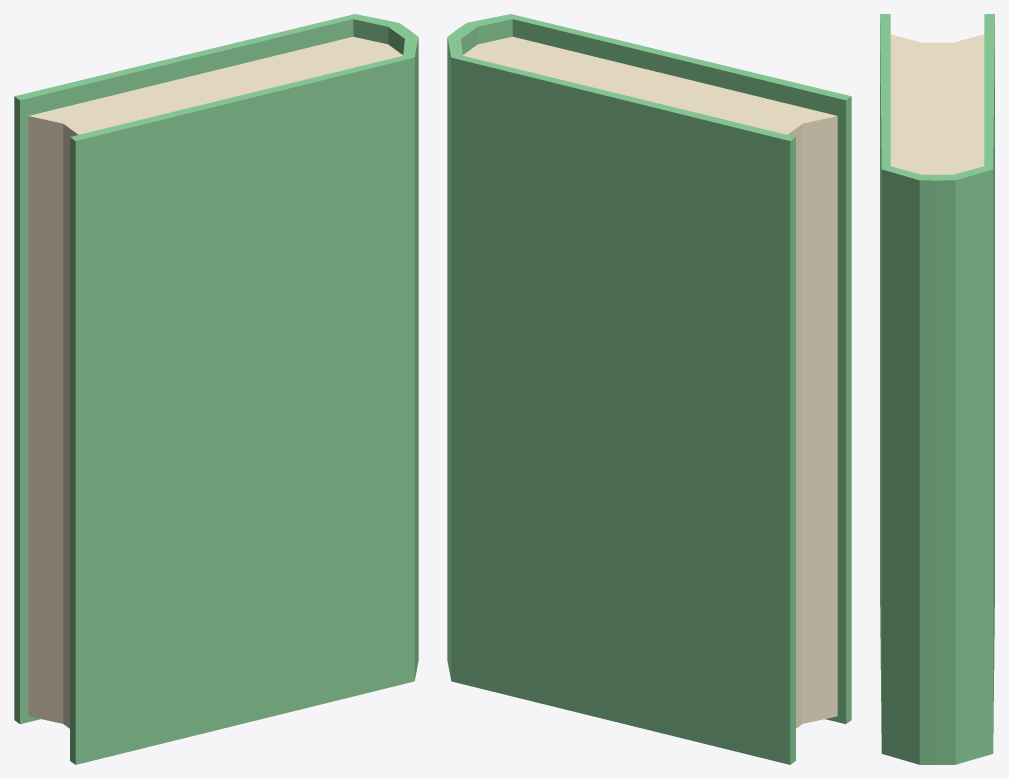
File: Book_12.fbx
3 renders of one model, left to right at view 1: azimuth 30°, elevation 25°; view 2: azimuth 150°, elevation 25°; view 3: azimuth 270°, elevation 25°, orthographic. The views are drawn at different scales.
Parts seen in each view (by area): view 1: Plane.299; view 2: Plane.299; view 3: Plane.299.
Boxes of the visible parts, x1=… form: Plane.299: x1=14, y1=14, x2=418, y2=764; Plane.299: x1=447, y1=14, x2=851, y2=764; Plane.299: x1=880, y1=14, x2=994, y2=764.
Bounding box in the file's own units: 0.3167 × 0.0922 × 0.5182.
